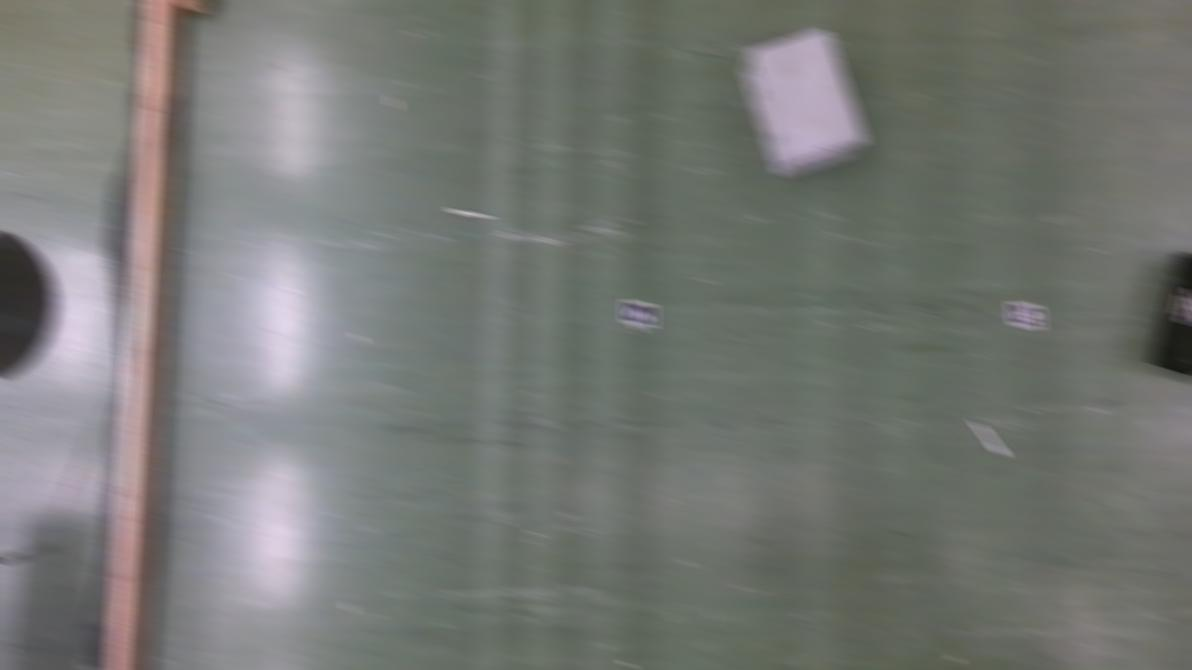probes: (973, 422, 1004, 457), (448, 209, 489, 219)
rako: (739, 30, 867, 179), (1149, 248, 1192, 387)
